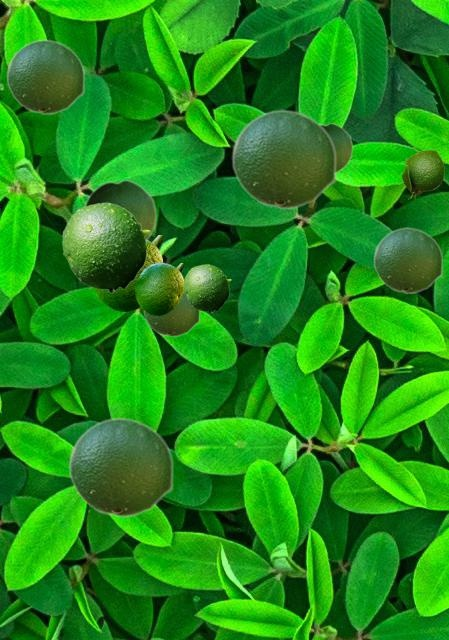dalandan: (231, 109, 336, 209), (68, 417, 173, 517), (62, 202, 149, 292), (6, 39, 84, 114), (94, 235, 161, 310), (83, 178, 156, 241), (373, 227, 442, 293), (135, 263, 182, 314), (143, 294, 199, 336), (183, 264, 230, 312), (401, 150, 443, 198), (322, 122, 352, 173)
